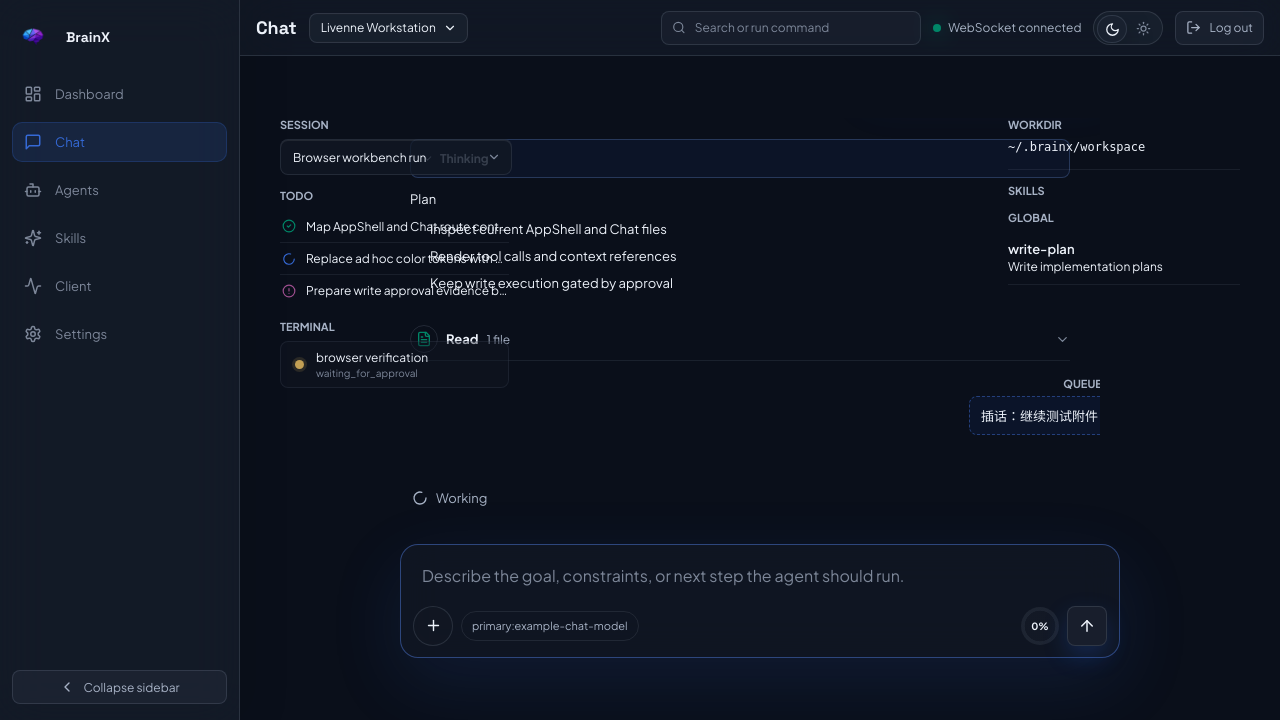
it: v0.3 Chat workspace › renders Chat with the finalized low-density preview structure
(page scrolled)
Expected: the heading "Chat" is shown, x1=256 y1=18 x2=297 y2=36
Expected: the element named "Agent loop timeline" is shown, x1=400 y1=118 x2=1120 y2=528
Click the dropdown named "Chat sessions" at [396, 157], box x1=280 y1=139 x2=512 y2=175
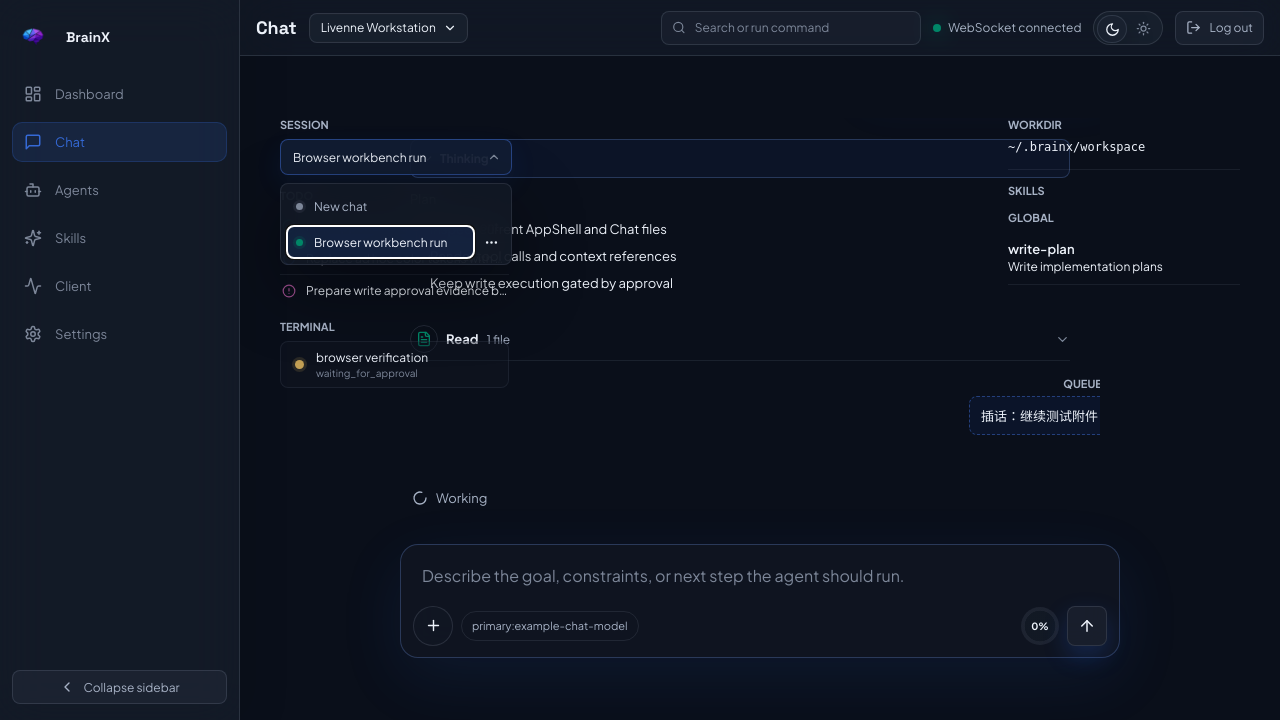
Expected: the text box named "Message brainx" is shown, x1=411 y1=555 x2=1109 y2=598
Expected: the option "New chat" is shown, x1=287 y1=190 x2=474 y2=222
